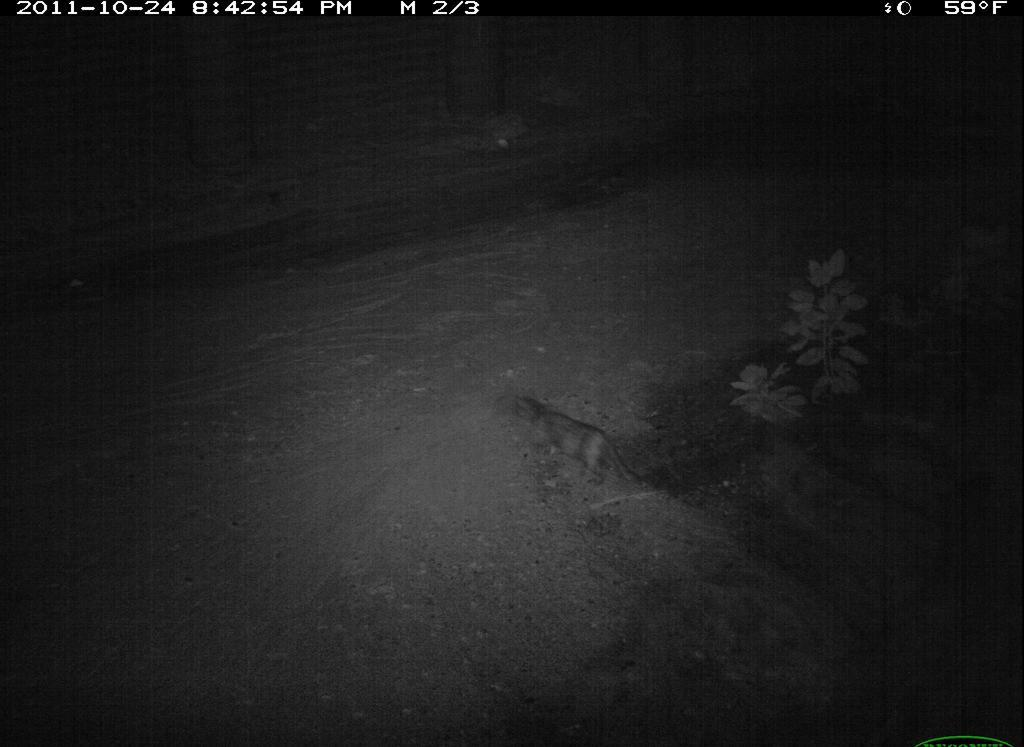cat: (506, 386, 649, 514)
